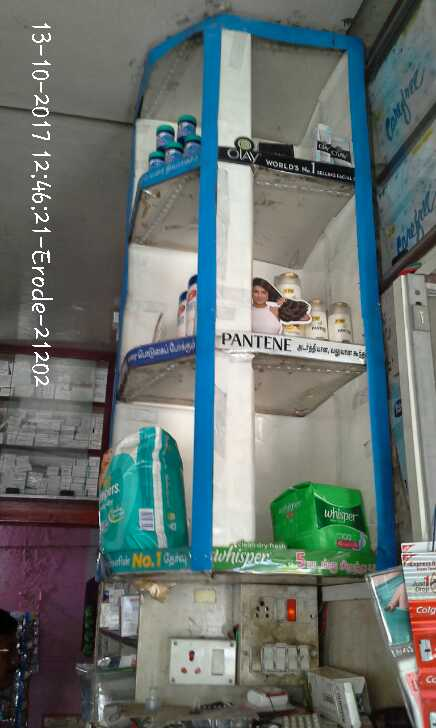beauty: (313, 122, 355, 171), (321, 295, 351, 347), (299, 295, 326, 345)
pharmacy: (96, 426, 184, 555), (271, 477, 378, 555), (141, 114, 206, 165)
